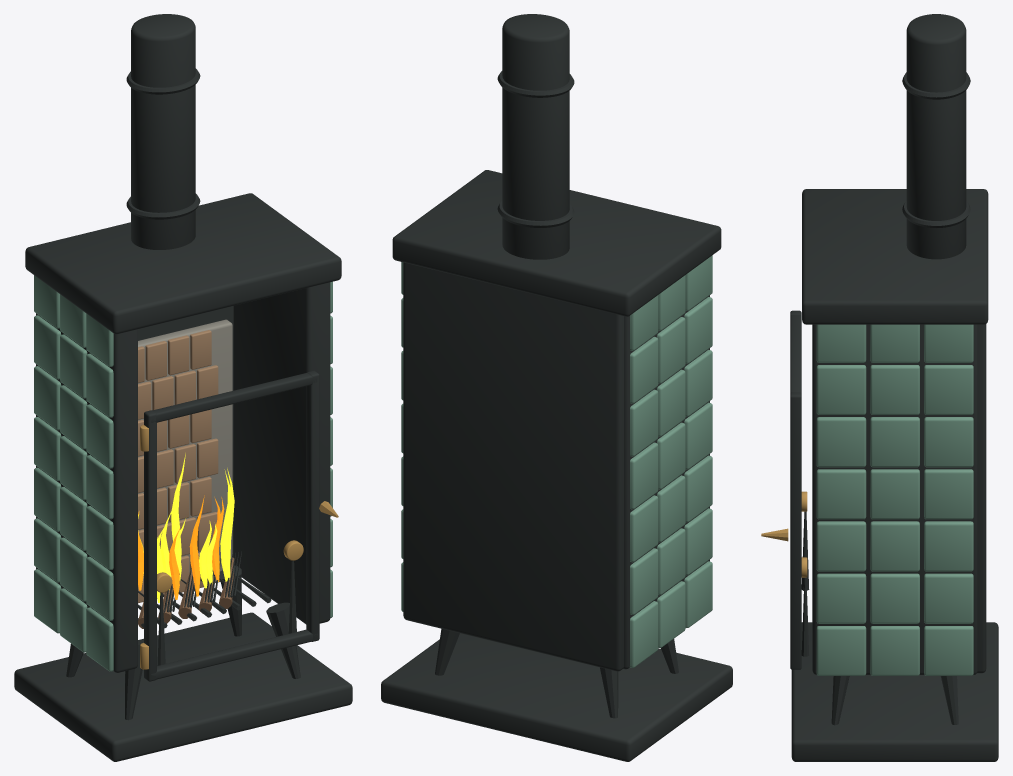
The model's file is tiled-corner-stove.glb.
The picture shows the model from 3 angles, left to right: view 1: azimuth 30°, elevation 25°; view 2: azimuth 150°, elevation 25°; view 3: azimuth 270°, elevation 25°; orthographic projection. The views are drawn at different scales.
Visible parts, largest first — view 1: tiled-corner-stove; view 2: tiled-corner-stove; view 3: tiled-corner-stove.
Boxes of the visible parts, bbox=[...] form: tiled-corner-stove: bbox=[14, 14, 352, 761]; tiled-corner-stove: bbox=[381, 14, 732, 761]; tiled-corner-stove: bbox=[761, 14, 998, 761].
Bounding box in the file's own units: 0.65 × 1.7 × 0.54.
